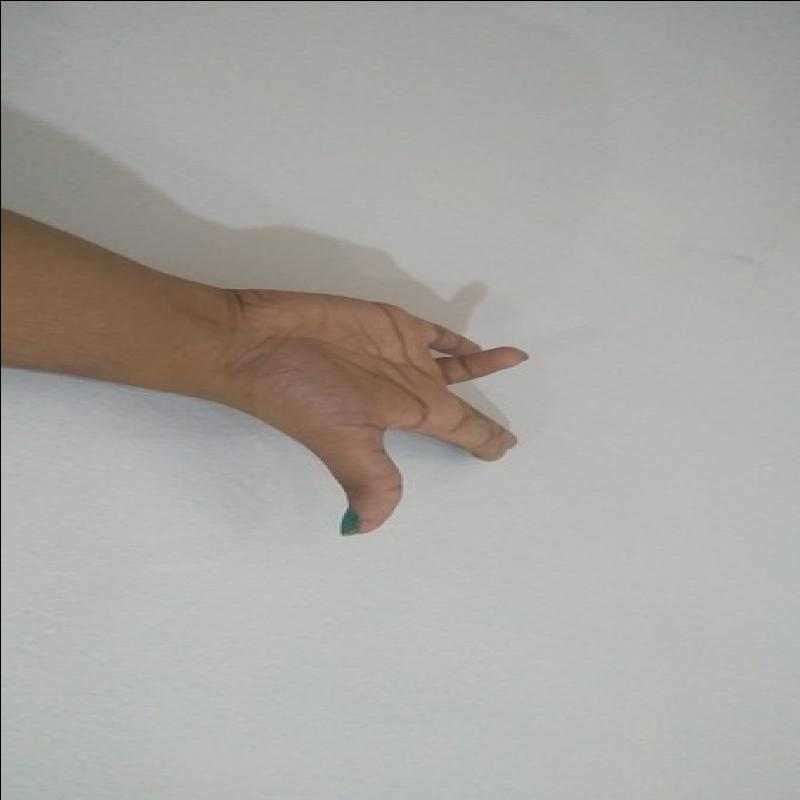Pathaaka: (202, 276, 534, 545)
